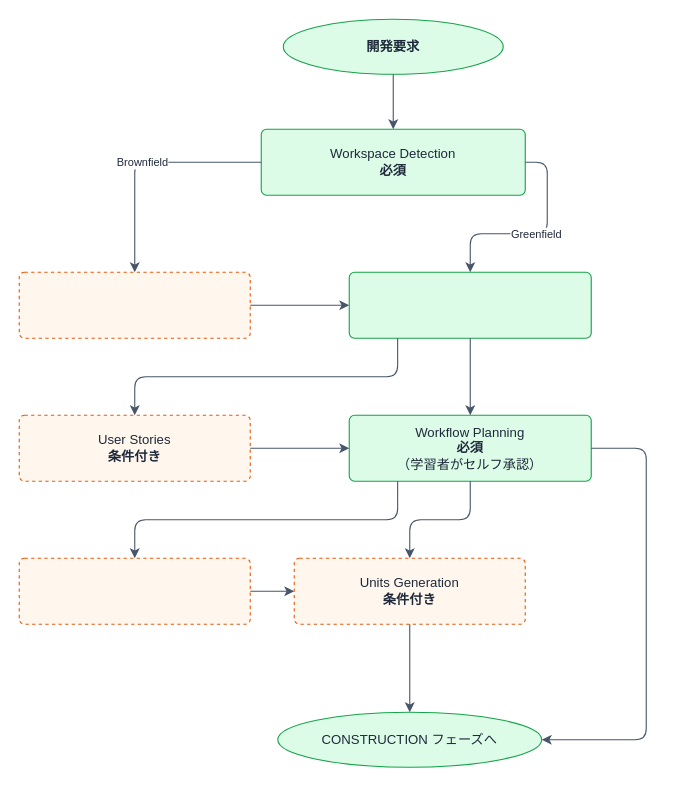
The diagram is 674 pixels wide and 787 high, and some of its shapes have lost their labels. Here are the shapes that lost their labels. From the top down, the centre of each, then its label:
At (x=134, y=304): "Reverse Engineering 条件付き".
At (x=469, y=304): "Requirements Analysis 必須（深さ適応型）".
At (x=134, y=590): "Application Design 条件付き".
